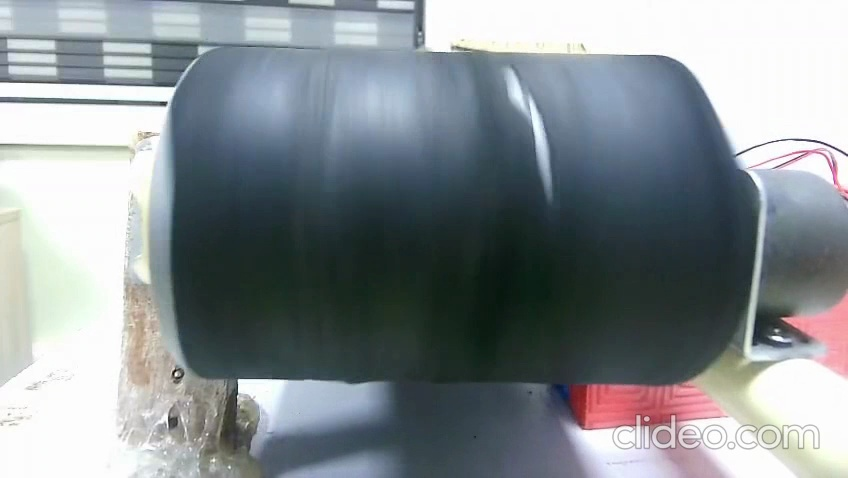tear: (498, 63, 560, 203)
